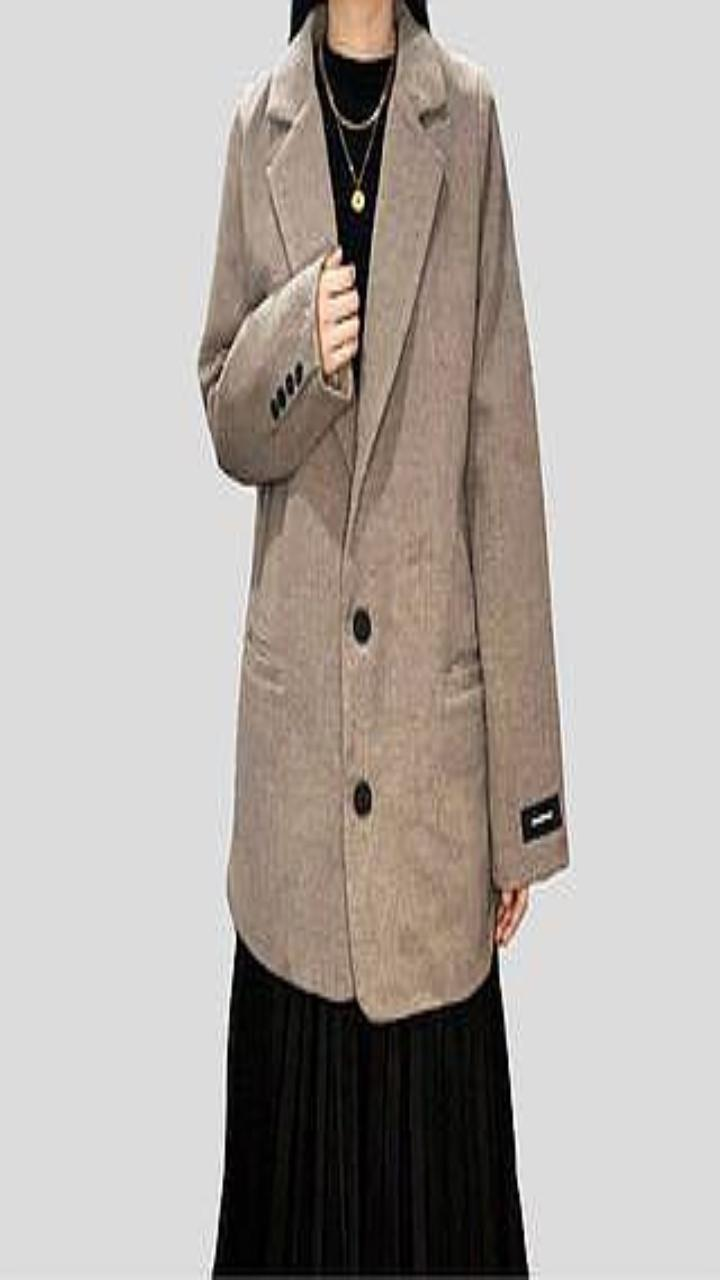Dresses: (213, 934, 527, 1275)
T-Shirt: (315, 48, 389, 385)
